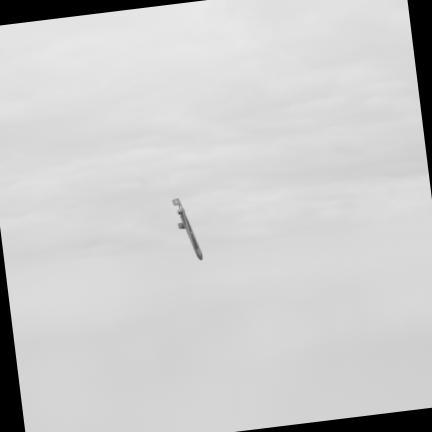Shahed: (174, 198, 202, 259)
